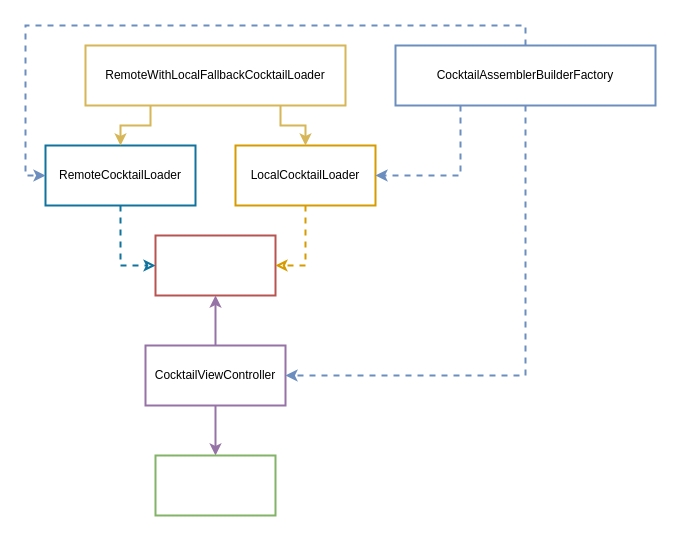
The diagram is 673 pixels wide and 533 high, and some of its shapes have lost their labels. The centre of each missing label's shape, as x and y in pixels:
<CocktailLoader>: [215,265]
UIViewController: [215,485]
